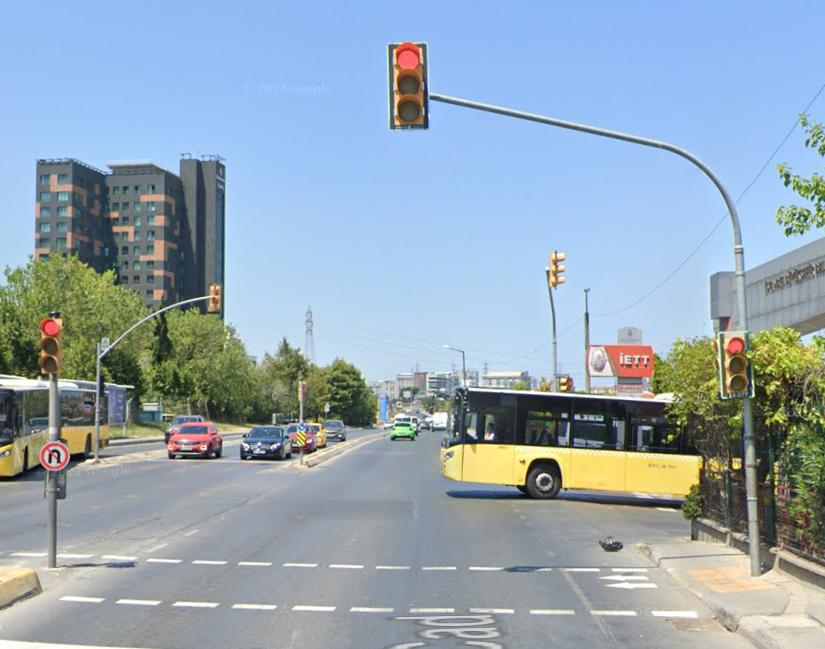redlight: (386, 40, 429, 132), (719, 328, 754, 405), (41, 316, 60, 380)
